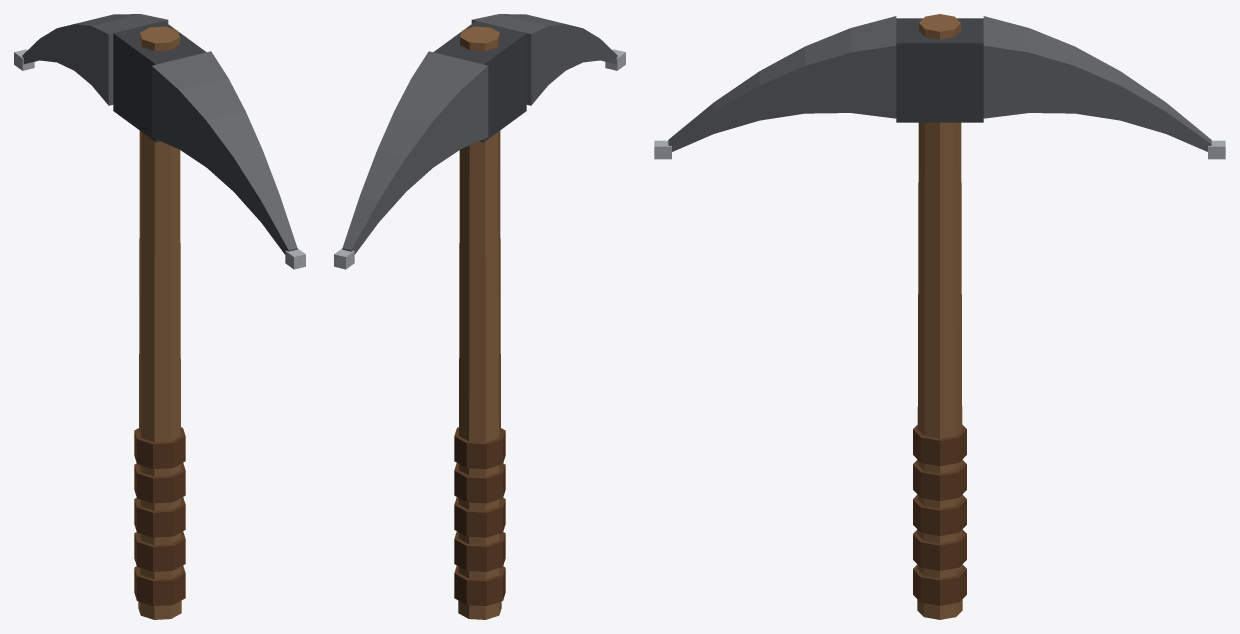
File: Pickaxe.glb
3 renders of one model, left to right at view 1: azimuth 30°, elevation 25°; view 2: azimuth 150°, elevation 25°; view 3: azimuth 270°, elevation 25°, orthographic. The views are drawn at different scales.
Parts seen in each view (by area): view 1: Mat_Metal_606266, Mat_Wood_6e4b2f, Mat_Wood_603e26, Mat_Stone_b0b4ba; view 2: Mat_Metal_606266, Mat_Wood_6e4b2f, Mat_Wood_603e26, Mat_Stone_b0b4ba; view 3: Mat_Metal_606266, Mat_Wood_6e4b2f, Mat_Wood_603e26.
Part boxes in pixels (<box>): Mat_Metal_606266: <box>22,14,297,254</box>; Mat_Wood_6e4b2f: <box>134,26,185,619</box>; Mat_Wood_603e26: <box>134,497,185,605</box>; Mat_Stone_b0b4ba: <box>14,49,305,269</box>; Mat_Metal_606266: <box>342,14,617,254</box>; Mat_Wood_6e4b2f: <box>454,26,505,619</box>; Mat_Wood_603e26: <box>454,497,505,605</box>; Mat_Stone_b0b4ba: <box>334,49,625,269</box>; Mat_Metal_606266: <box>668,16,1211,151</box>; Mat_Wood_6e4b2f: <box>913,14,966,619</box>; Mat_Wood_603e26: <box>913,494,966,605</box>.
Size of the model in its own units: 0.4 by 3.7 by 3.26.
1 material, 1 textured.
